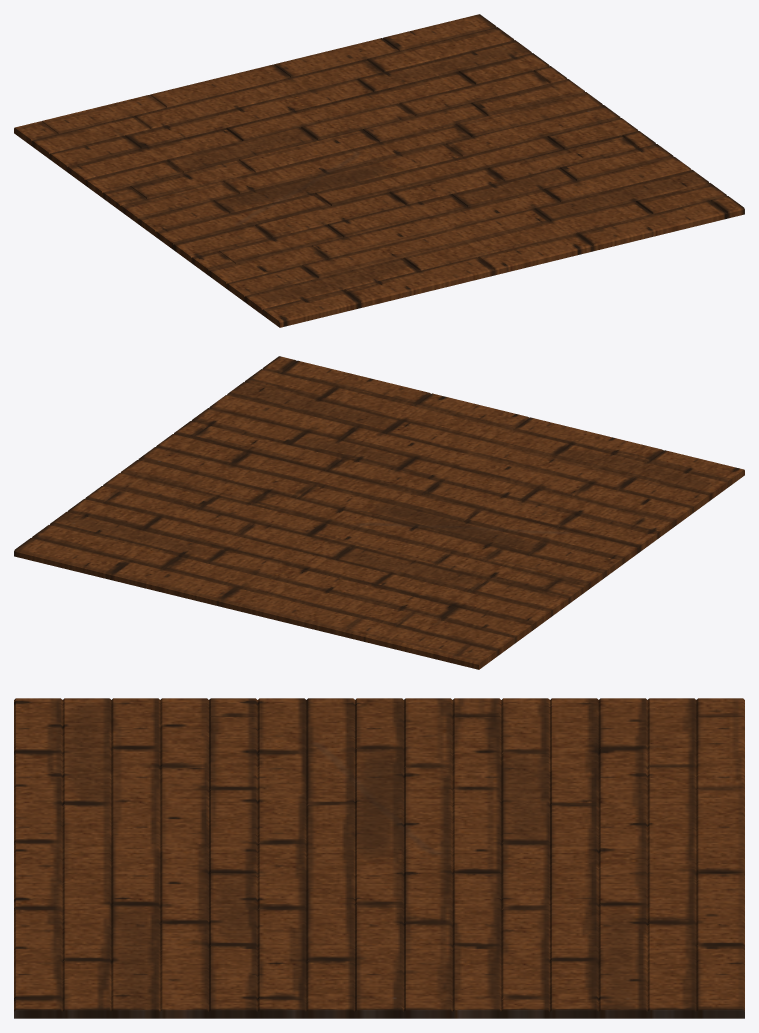
File: Chao.fbx
The picture shows the model from 3 angles, top to bottom: view 1: azimuth 30°, elevation 25°; view 2: azimuth 150°, elevation 25°; view 3: azimuth 270°, elevation 25°; orthographic projection. The views are drawn at different scales.
Visible parts, largest first — view 1: Piso; view 2: Piso; view 3: Piso.
Part boxes in pixels (x1,y1,x2,y2): Piso: (14, 14, 744, 327); Piso: (14, 356, 744, 669); Piso: (14, 698, 744, 1018).
Size of the model in its own units: 744 by 9.54 by 736.
Materials: 1 (1 with a texture image).
